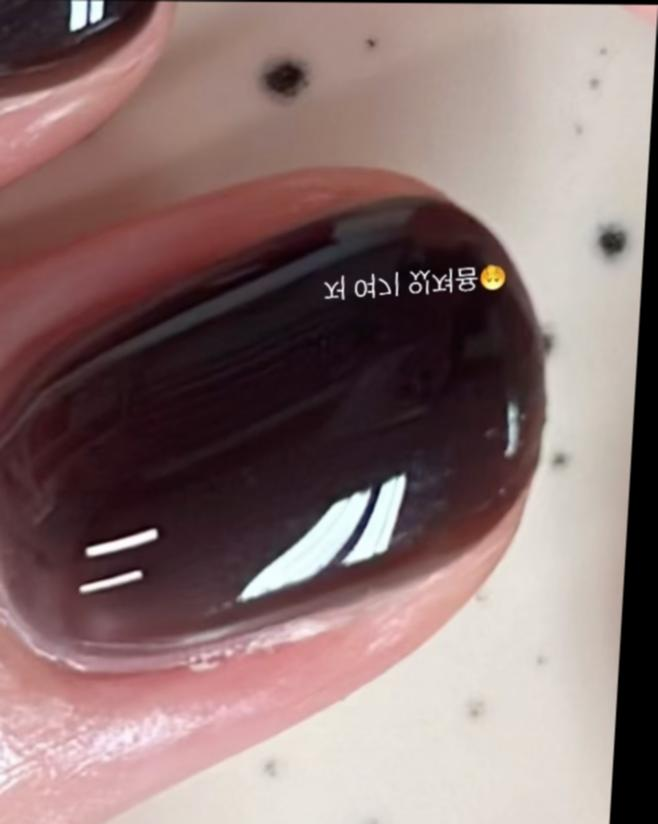nail: (0, 199, 545, 671)
